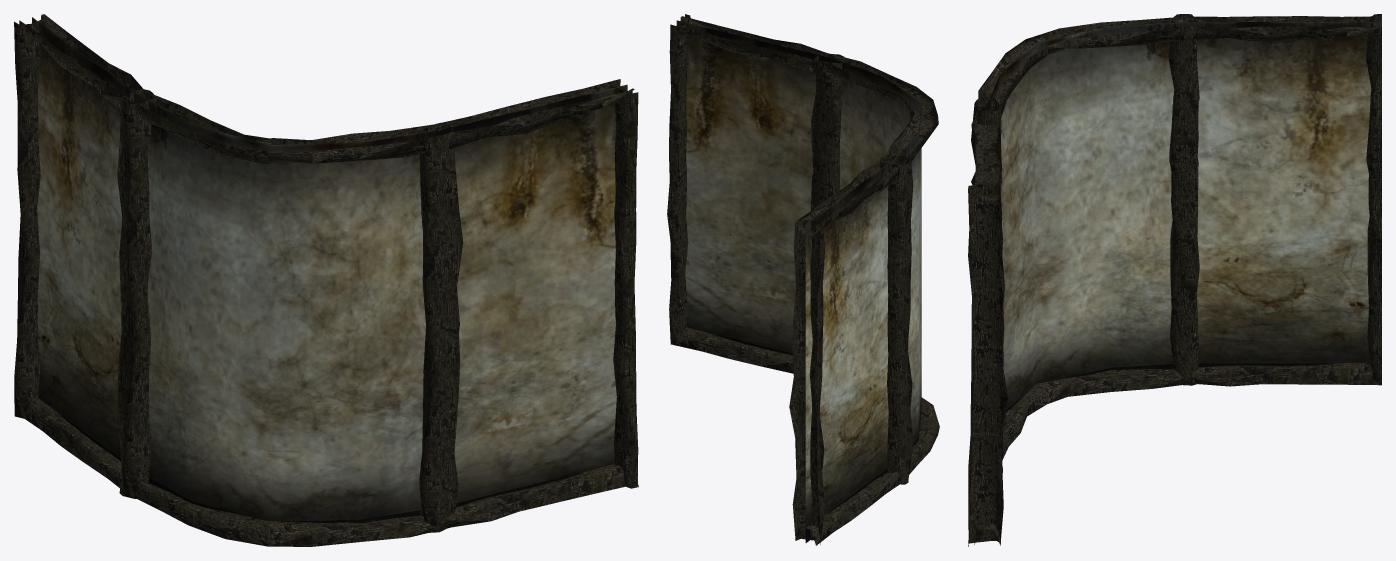
Rendered from corner_convex_round_extension.dae.
3 renders of one model, left to right at view 1: azimuth 30°, elevation 25°; view 2: azimuth 150°, elevation 25°; view 3: azimuth 270°, elevation 25°, orthographic. The views are drawn at different scales.
Parts seen in each view (by area): view 1: pPlane11, polySurface24; view 2: pPlane11, polySurface24; view 3: pPlane11, polySurface24.
Part boxes in pixels (<box>): pPlane11: <box>32,17,627,523</box>; polySurface24: <box>14,14,638,546</box>; pPlane11: <box>676,20,921,542</box>; polySurface24: <box>667,14,939,545</box>; pPlane11: <box>987,22,1381,411</box>; polySurface24: <box>968,14,1381,546</box>.
Bounding box in the file's own units: 4.22 × 4 × 4.19.
